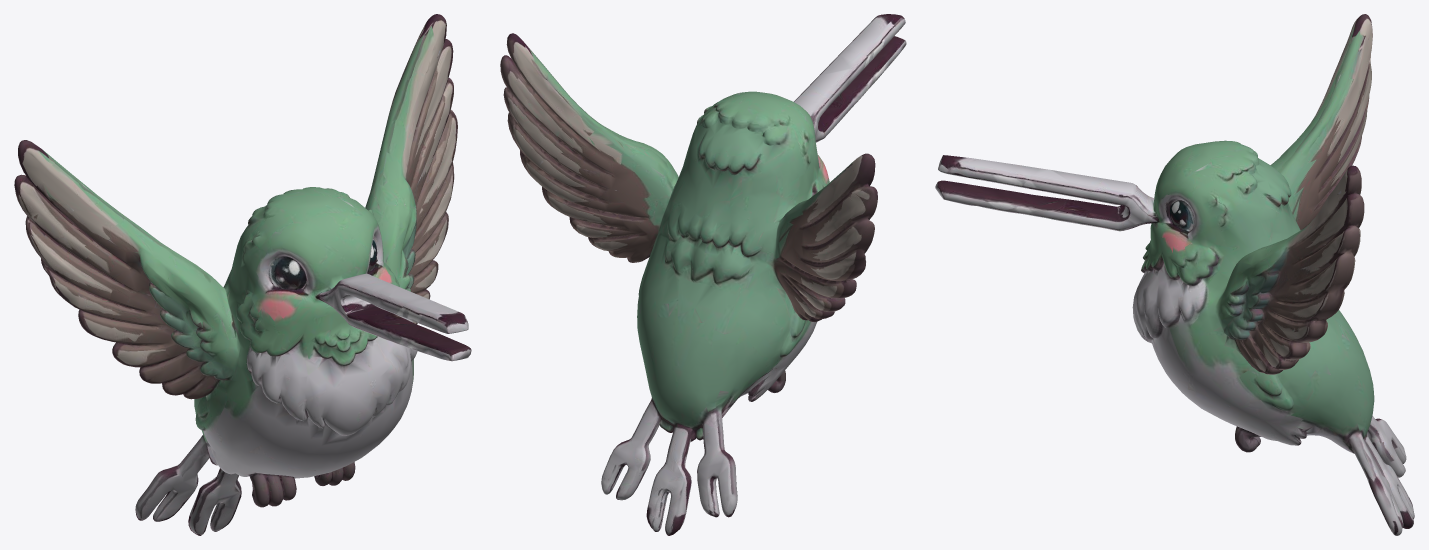
File: thrumbird.glb
The picture shows the model from 3 angles, left to right: view 1: azimuth 30°, elevation 25°; view 2: azimuth 150°, elevation 25°; view 3: azimuth 270°, elevation 25°; orthographic projection. The views are drawn at different scales.
Visible parts, largest first — view 1: Mesh_0; view 2: Mesh_0; view 3: Mesh_0.
Part boxes in pixels (bbox=[...]): Mesh_0: bbox=[14, 14, 471, 535]; Mesh_0: bbox=[500, 14, 906, 535]; Mesh_0: bbox=[935, 14, 1414, 535].
Size of the model in its own units: 1.74 by 1.9 by 1.84.
Materials: 1 (1 with a texture image).
